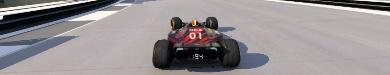Car: (151, 16, 240, 68)
